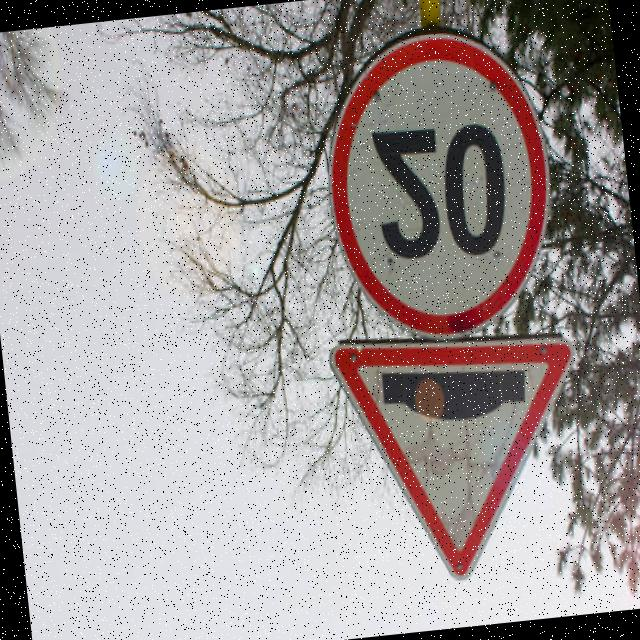speed_limit_20: (310, 16, 568, 350)
